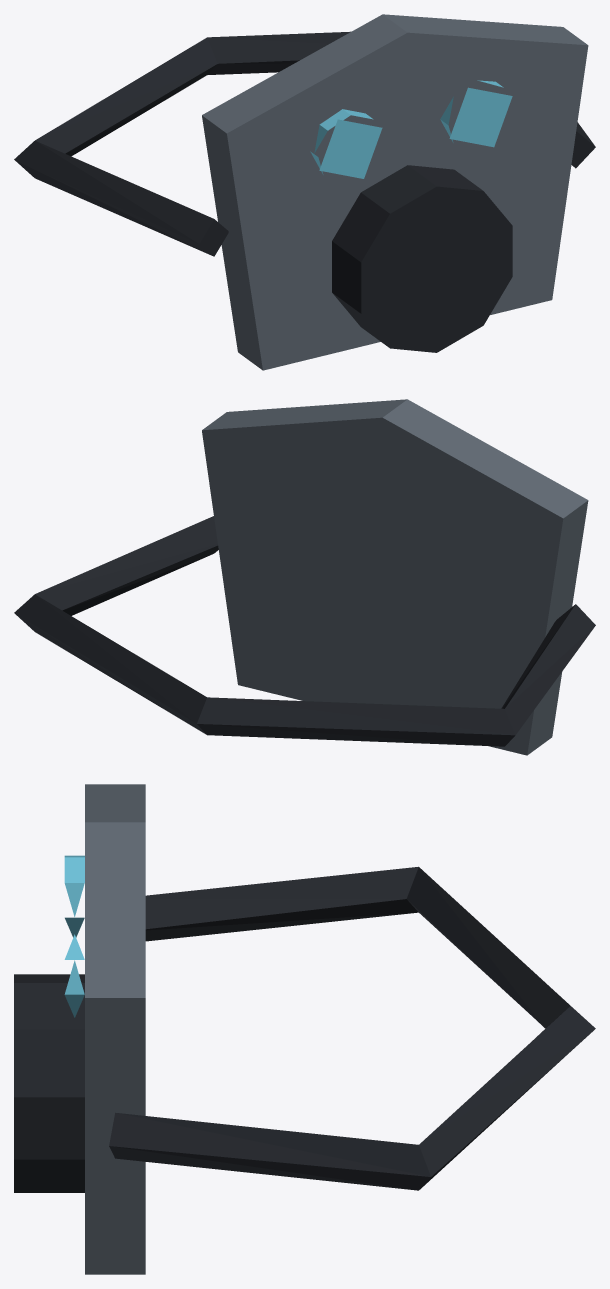
Rendered from vocoder-mask.lod.glb.
The picture shows the model from 3 angles, top to bottom: view 1: azimuth 30°, elevation 25°; view 2: azimuth 150°, elevation 25°; view 3: azimuth 270°, elevation 25°; orthographic projection. The views are drawn at different scales.
Parts seen in each view (by area): view 1: m; view 2: m; view 3: m.
Part boxes in pixels (x1,y1,x2,y2): m: (14,14,595,370); m: (14,399,595,755); m: (14,784,595,1274).
Bounding box in the file's own units: 0.1 × 0.0577 × 0.0829.
